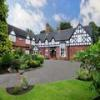chimneys: (45, 24, 50, 34)
